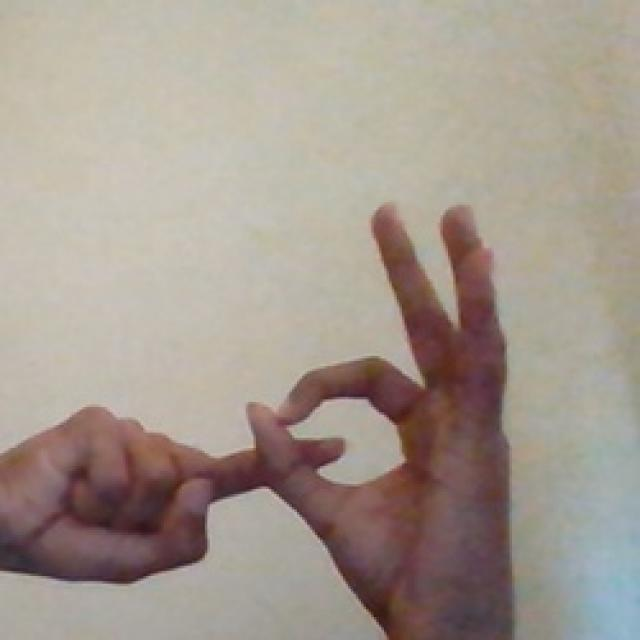Alphabet-Q: (0, 158, 540, 640)
